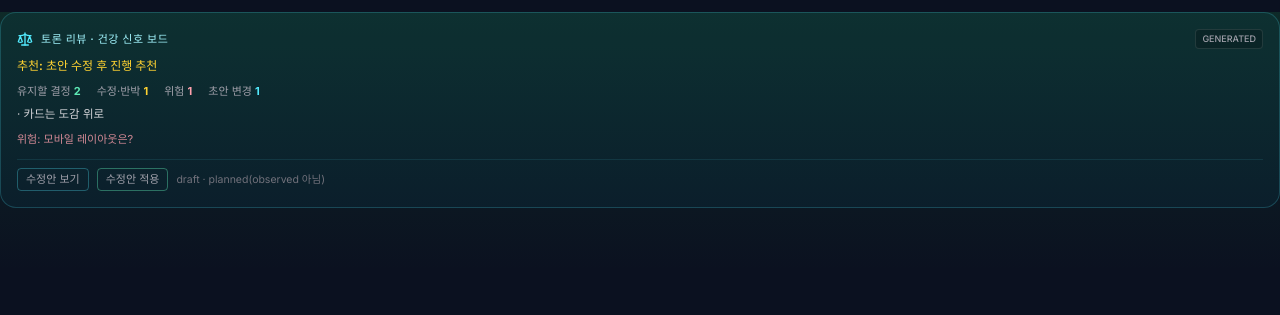
Test case: BlueprintReviewCard — Revision Draft UI › (#3) '수정안 보기' 클릭 → 펼침 + addedCriteria/riskNotes 표시
Click the button with test id "blueprint-revision-toggle" at (53, 180), box [17,168,89,191]
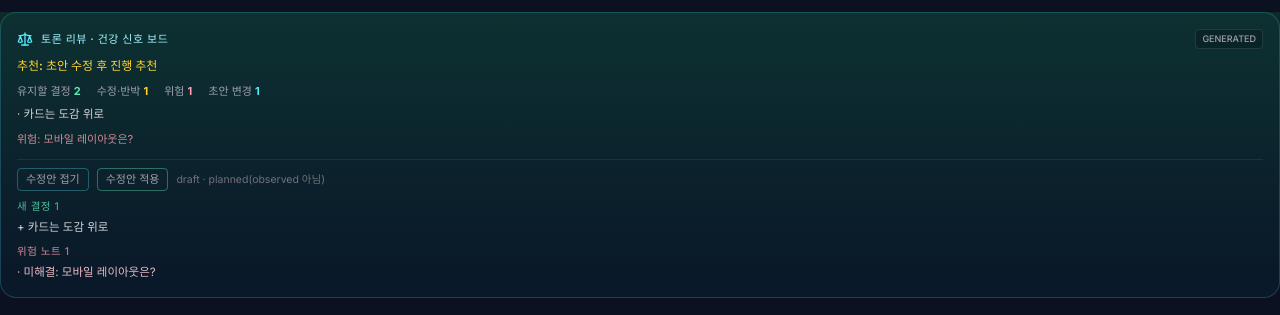
Now the element with test id "blueprint-revision-detail" shows "새 결정 1", box [17,200,156,279]
Now the element with test id "blueprint-revision-detail" shows "카드는 도감 위로", box [28,220,108,234]
Now the element with test id "blueprint-revision-detail" shows "위험 노트 1", box [17,200,156,279]
